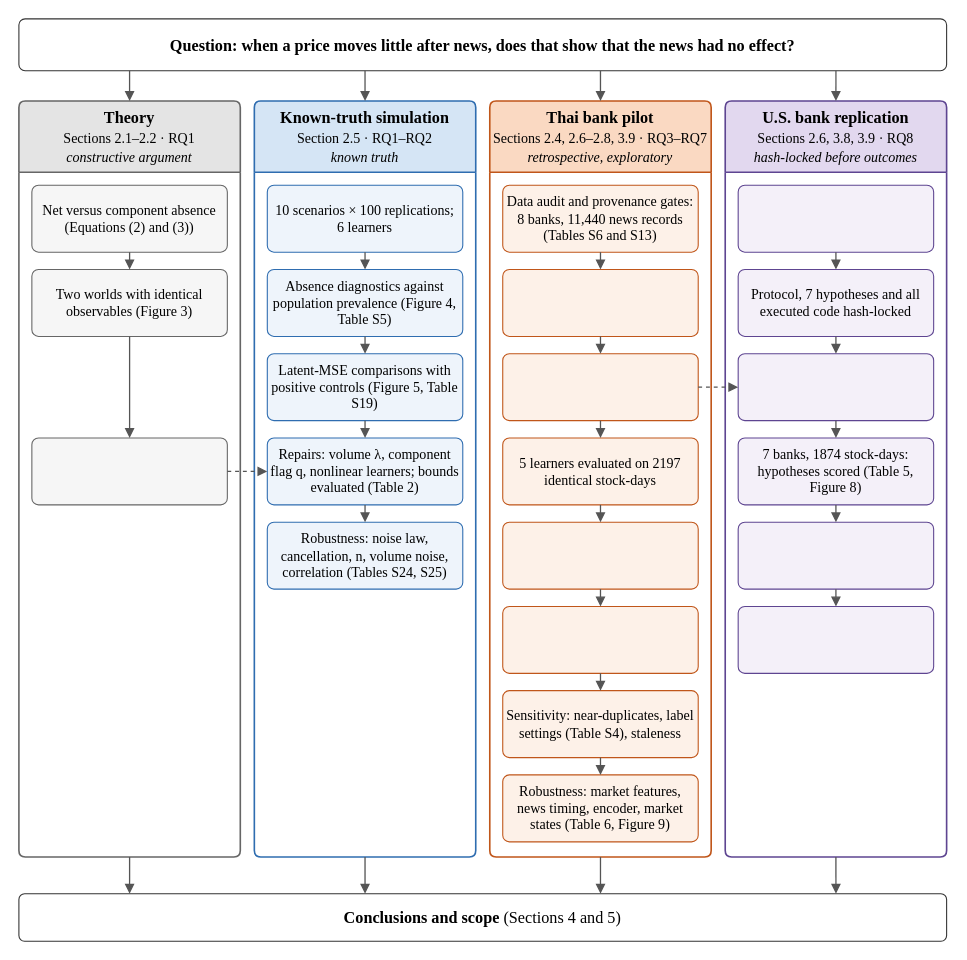
Some shapes in this 967 by 960 pixel diagram are drawn without their labels. Each missing label, with the centre of its shape:
7 quarterly folds, 5-session purge, exact-overlap exclusion (Figure S1): the point at 600,387
Deviations from the protocol logged: the point at 835,555
FNSPID inspected before the freeze: article counts and dates only: the point at 835,218
Labels, folds, learners and inference reused unchanged: the point at 835,387
Mechanism: RDFL component and pipeline ablations (Table 3, Figure 7, Table S8): the point at 600,639
Paired moving-block bootstrap, Holm, ±2% margin (Table 4, Figure 6, Table S7): the point at 600,555
Partial-identification bounds: observable and oracle: the point at 129,471
RDFL labels from price response and trading volume (Figure 2): the point at 600,302
Same robustness analyses, run after the locked results (Section 3.9, Figure 9): the point at 835,639
